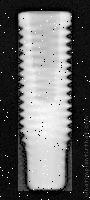Neodent: (18, 11, 72, 191)
